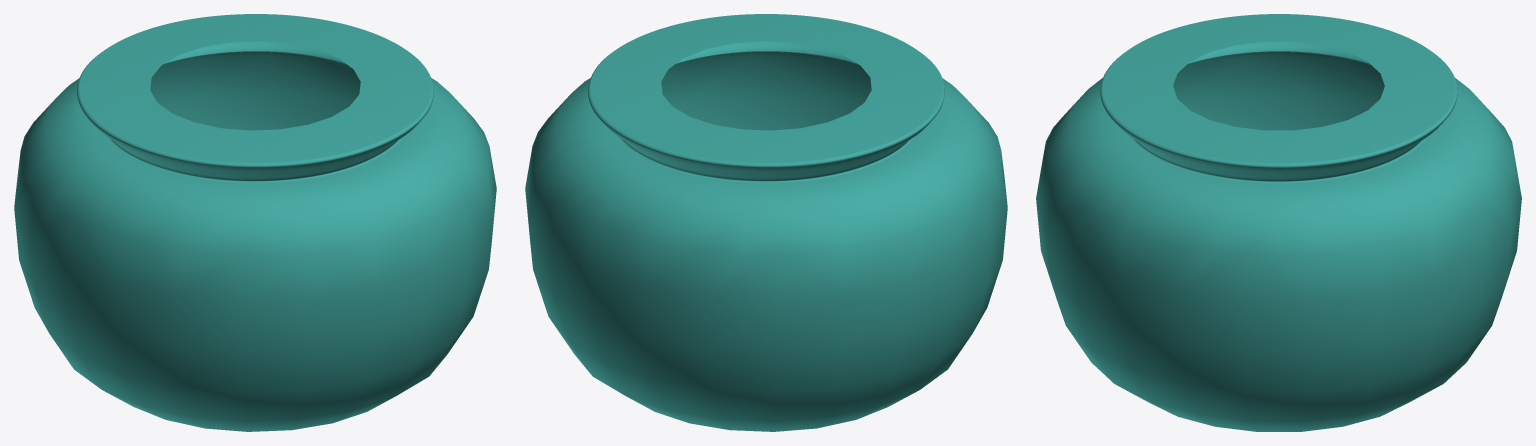
Rendered from FishForSketch.obj.
3 views of the same model, side by side, from view 1: azimuth 30°, elevation 25°; view 2: azimuth 150°, elevation 25°; view 3: azimuth 270°, elevation 25° (orthographic).
Parts seen in each view (by area): view 1: fish:revolvedSurface1; view 2: fish:revolvedSurface1; view 3: fish:revolvedSurface1.
Part boxes in pixels (<box>): fish:revolvedSurface1: <box>14,14,496,431</box>; fish:revolvedSurface1: <box>525,14,1007,431</box>; fish:revolvedSurface1: <box>1036,14,1521,431</box>.
Size of the model in its own units: 35.77 by 24.85 by 36.15.
